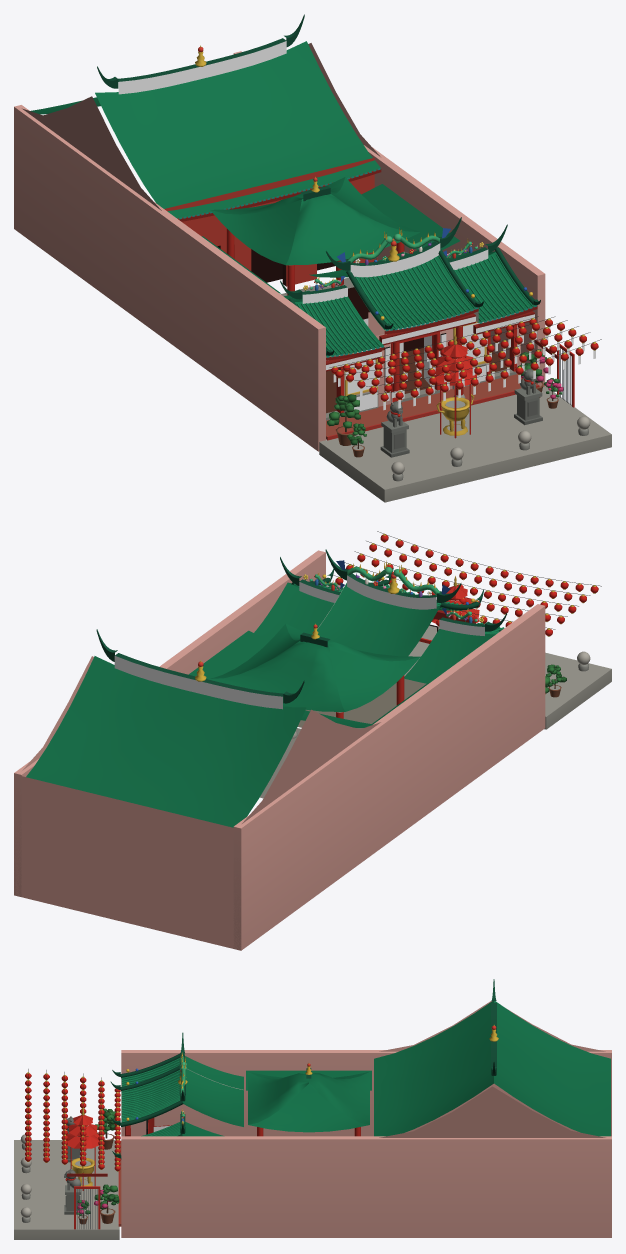
The model's file is temple.lod0.glb.
The picture shows the model from 3 angles, top to bottom: view 1: azimuth 30°, elevation 25°; view 2: azimuth 150°, elevation 25°; view 3: azimuth 270°, elevation 25°; orthographic projection. The views are drawn at different scales.
Parts seen in each view (by area): view 1: temple-lod0; view 2: temple-lod0; view 3: temple-lod0.
Boxes of the visible parts, x1=… form: temple-lod0: x1=14, y1=14, x2=611, y2=502; temple-lod0: x1=14, y1=531, x2=611, y2=950; temple-lod0: x1=14, y1=979, x2=611, y2=1239.
Bounding box in the file's own units: 10.4 × 9.5 × 29.4.
